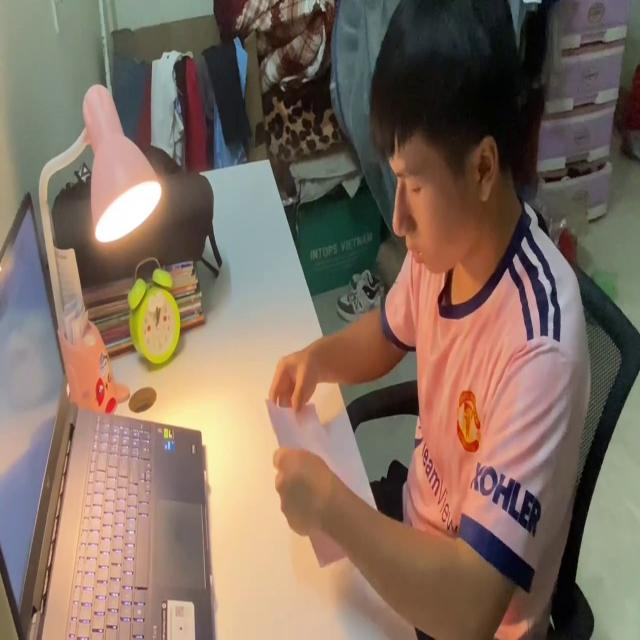book: (264, 391, 352, 572)
laptop: (0, 188, 212, 640)
student: (268, 0, 595, 640)
